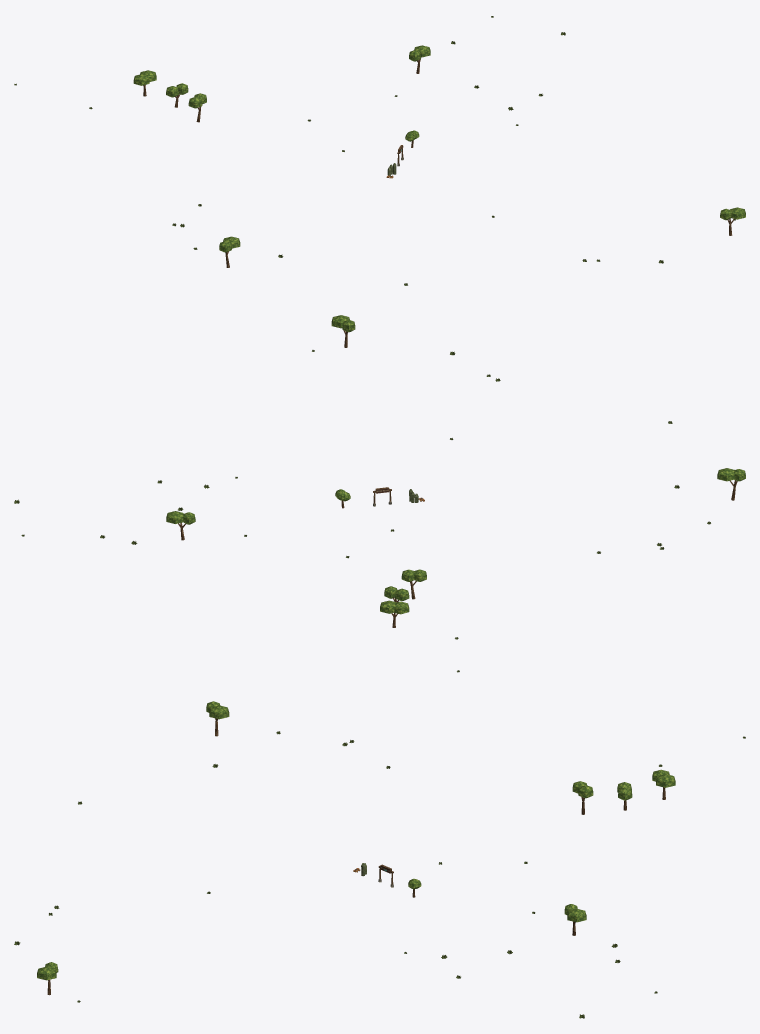
The model's file is FieldCell_3_5.fbx.
3 views of the same model, one above another, from view 1: azimuth 30°, elevation 25°; view 2: azimuth 150°, elevation 25°; view 3: azimuth 270°, elevation 25° (orthographic). The views are drawn at different scales.
Visible parts, largest first — view 1: FieldCell_3_5; view 2: FieldCell_3_5; view 3: FieldCell_3_5.
Boxes of the visible parts, x1,y1,x2,y2 form: FieldCell_3_5: (133, 45, 745, 267); FieldCell_3_5: (166, 315, 745, 627); FieldCell_3_5: (37, 701, 675, 995).
Size of the model in its own units: 14465 by 1262 by 15863.
